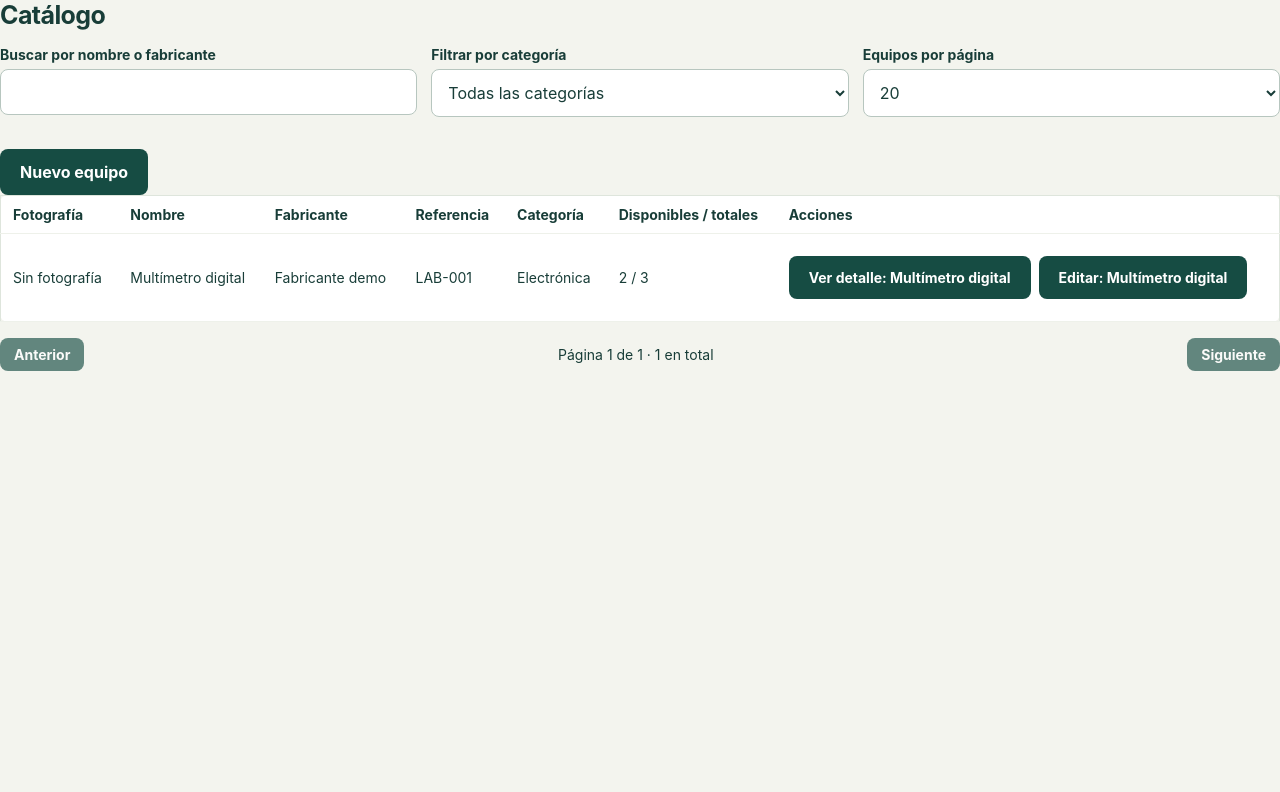
Test case: requires confirmation for deactivation, supports cancellation, and refreshes the list
The width and height of the screenshot is (1280, 792).
Click the button "Ver detalle: Multímetro digital" at [910, 278], box x1=789 y1=256 x2=1031 y2=299
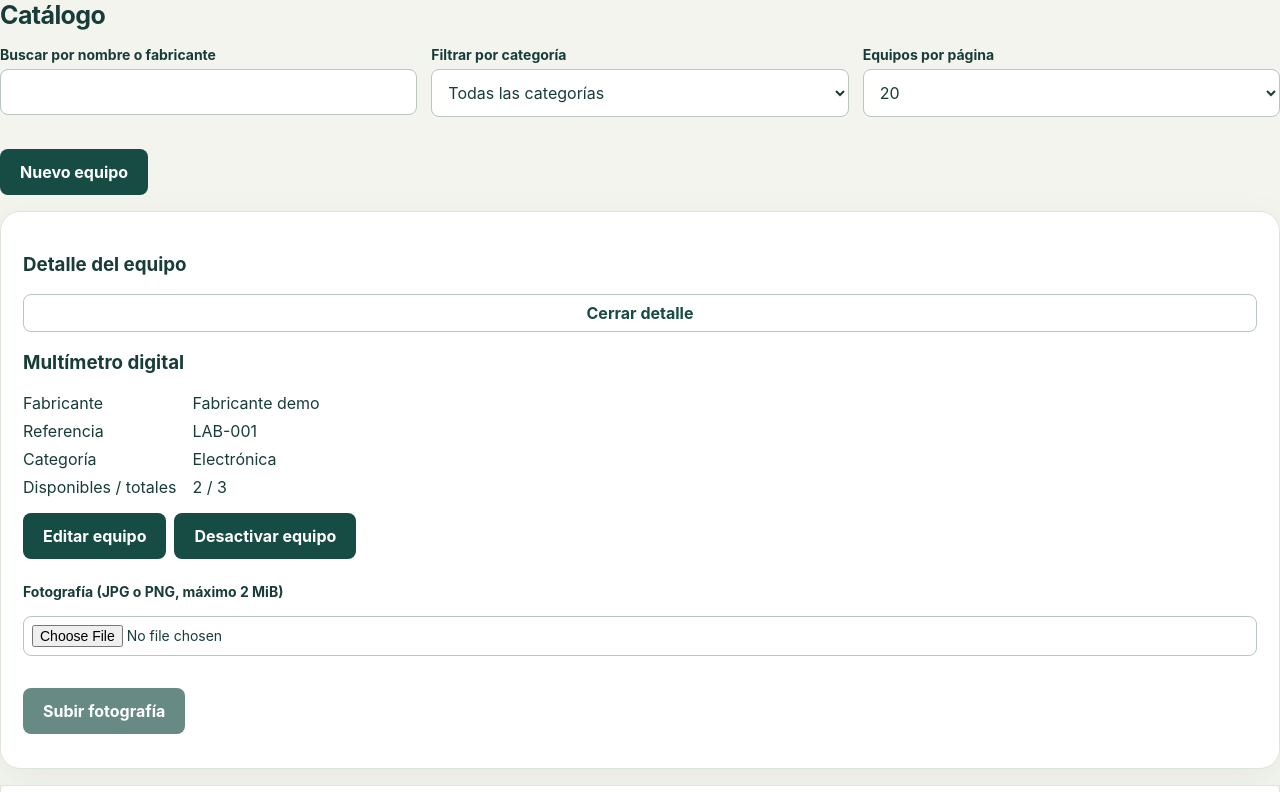
Result: the heading "Multímetro digital" is shown at x1=23 y1=351 x2=184 y2=374
Click the button "Desactivar equipo" at [265, 536], box x1=174 y1=513 x2=356 y2=559
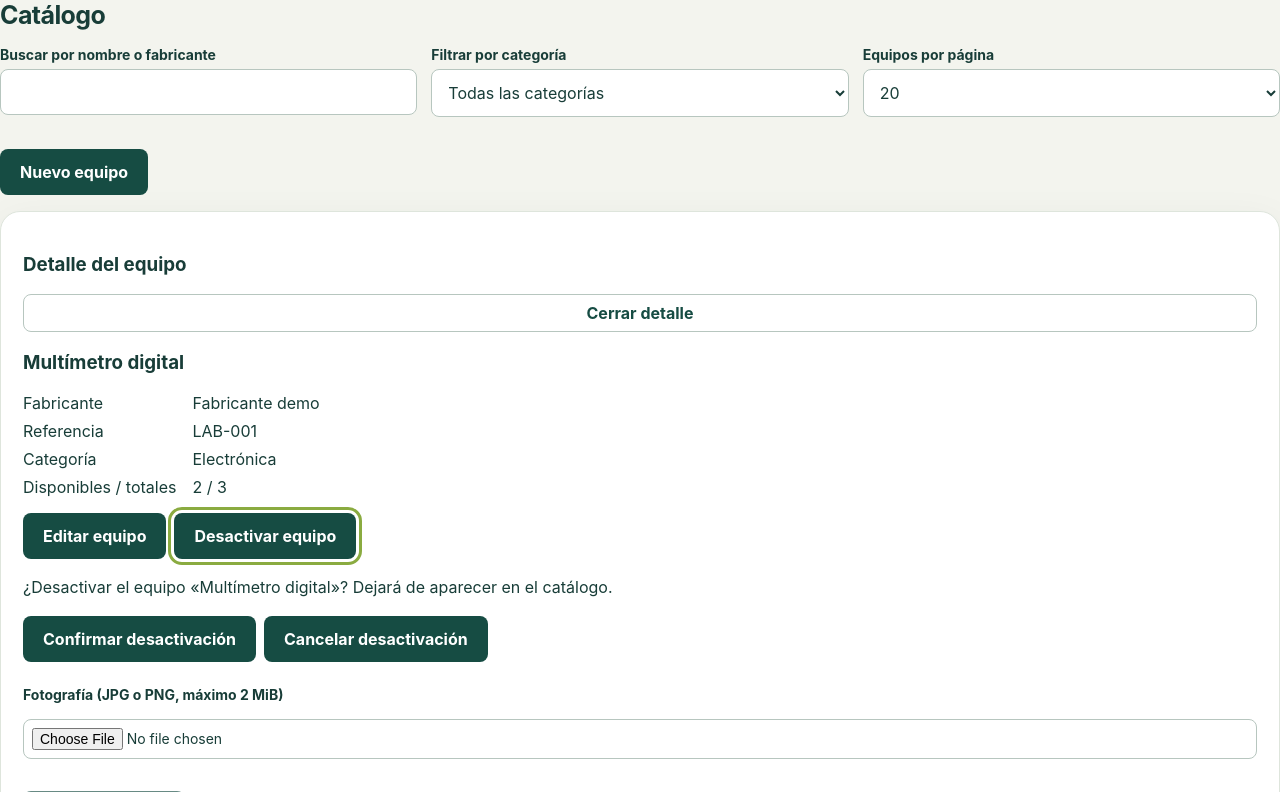
Click the button "Cancelar desactivación" at [376, 640], box x1=264 y1=616 x2=488 y2=662
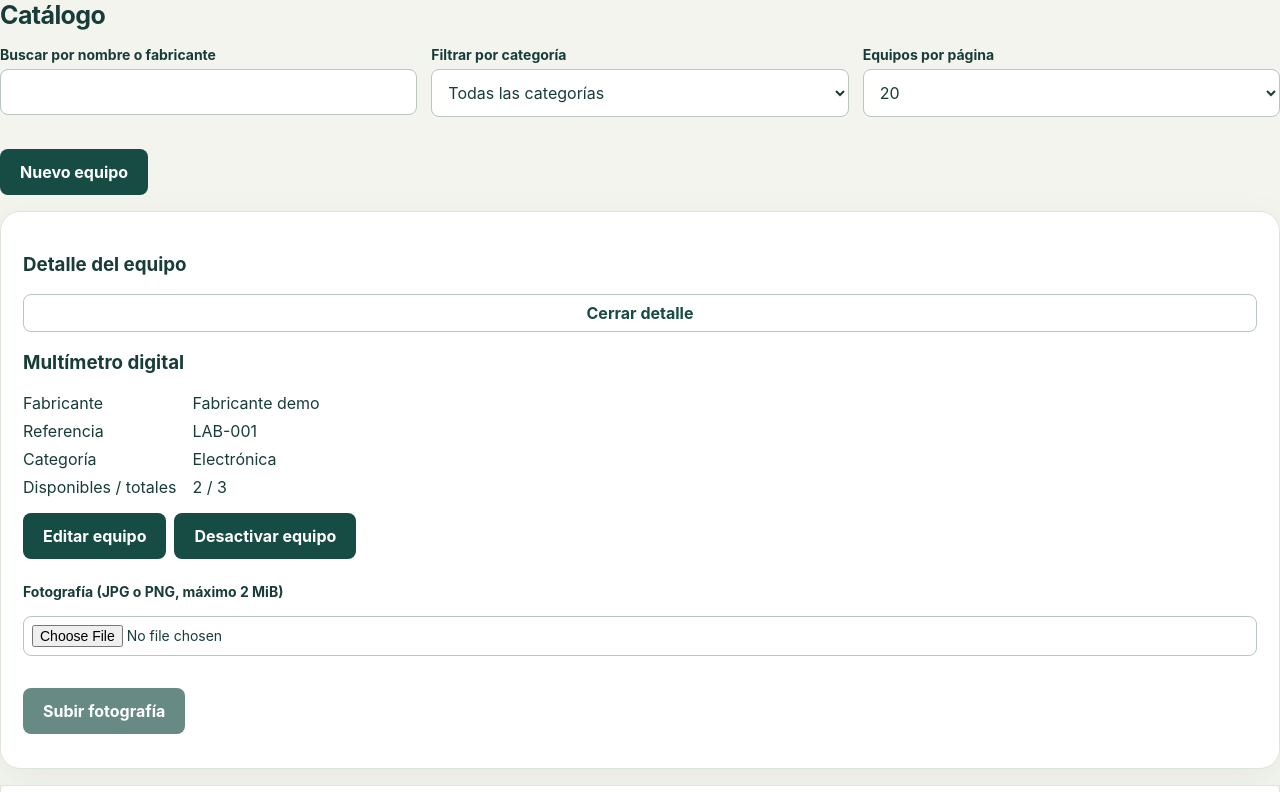
Result: the button "Confirmar desactivación" is gone
Click the button "Desactivar equipo" at [265, 536], box x1=174 y1=513 x2=356 y2=559
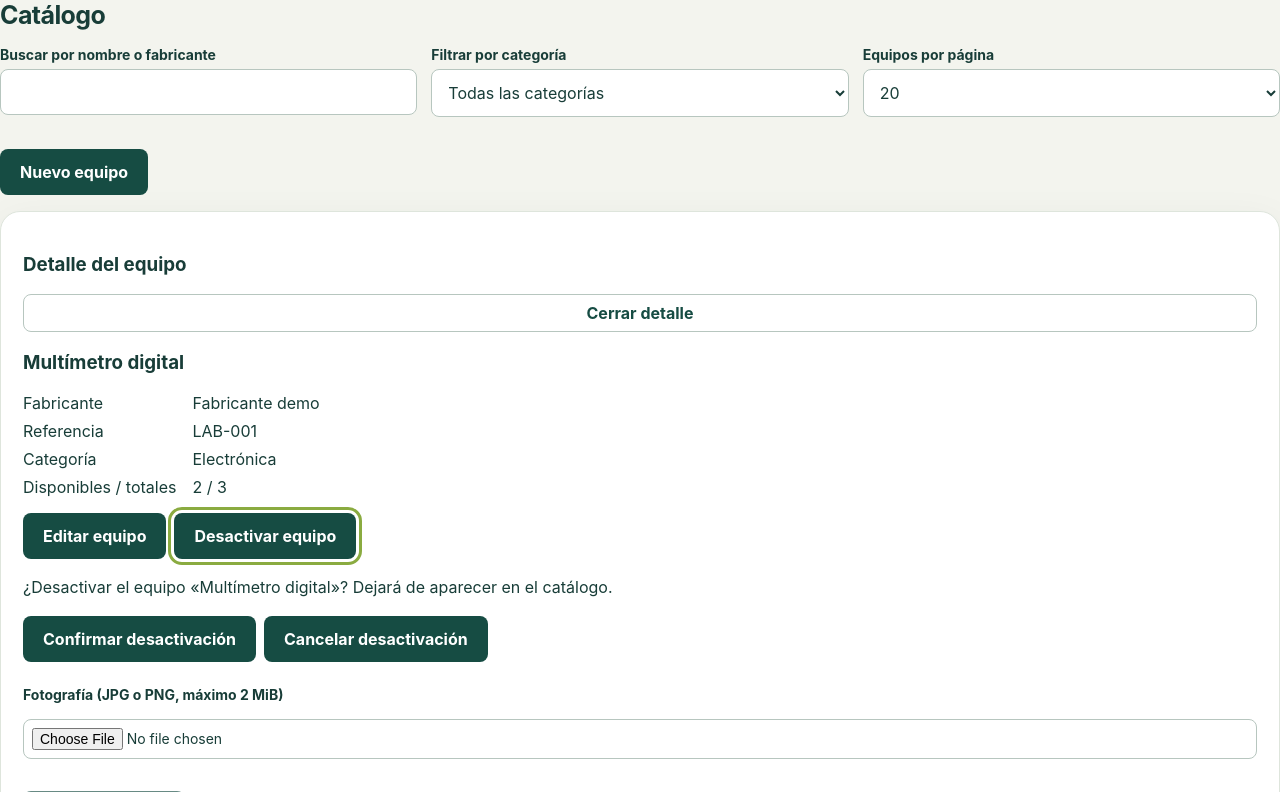
Click the button "Confirmar desactivación" at [140, 640], box x1=23 y1=616 x2=256 y2=662
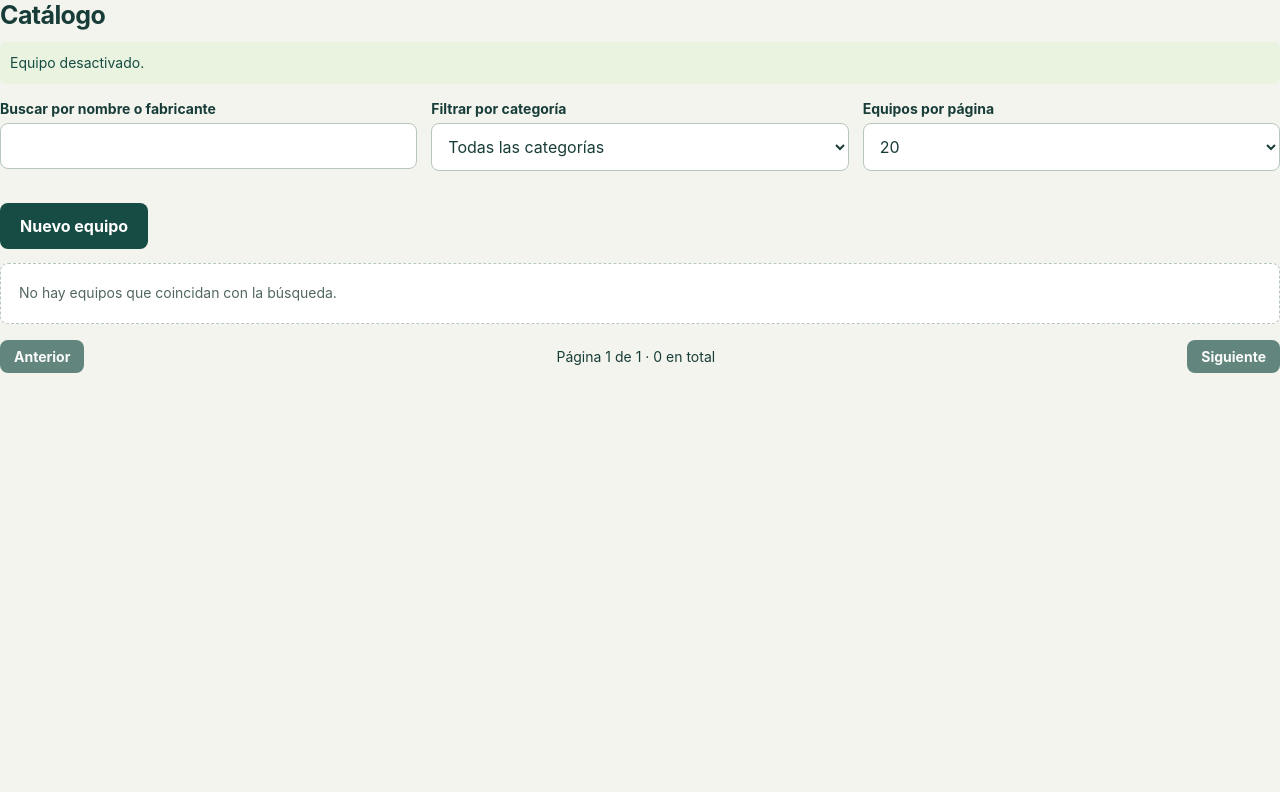
Result: the text "Equipo desactivado." is shown at x1=0 y1=42 x2=1279 y2=84
Result: the text "No hay equipos que coincidan con la búsqueda." is shown at x1=0 y1=263 x2=1279 y2=324
